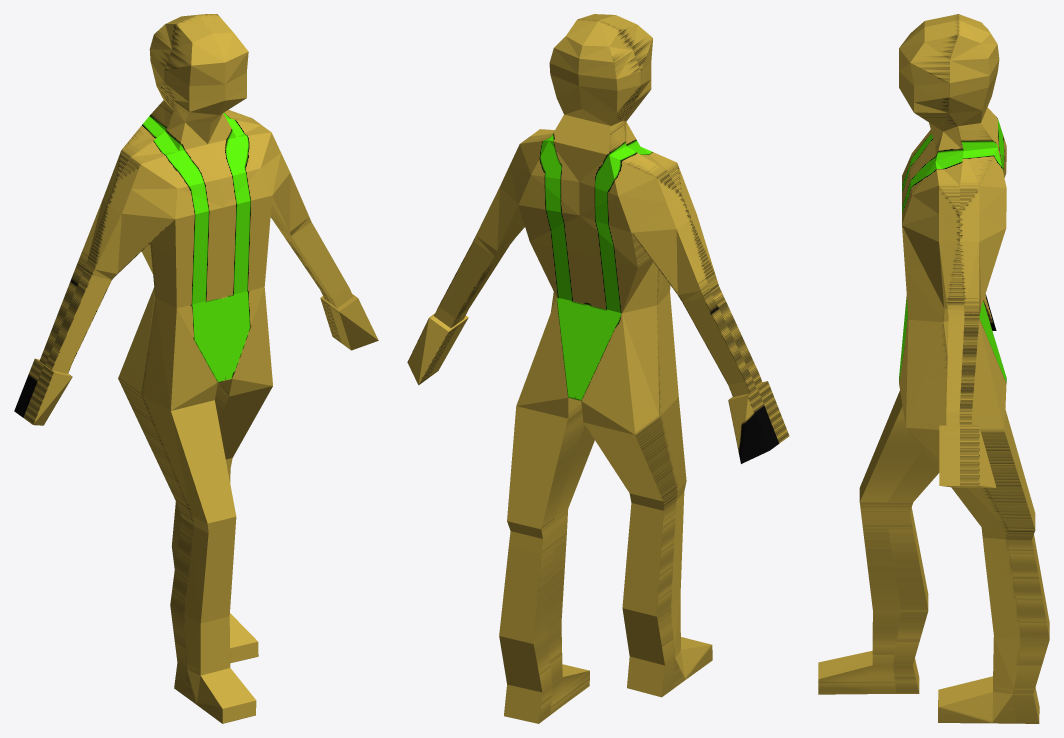
3 views of the same model, side by side, from view 1: azimuth 30°, elevation 25°; view 2: azimuth 150°, elevation 25°; view 3: azimuth 270°, elevation 25° (orthographic). The views are drawn at different scales.
Visible parts, largest first — view 1: Borat; view 2: Borat; view 3: Borat.
Boxes of the visible parts, <box> form: Borat: <box>14,14,378,723</box>; Borat: <box>407,14,789,723</box>; Borat: <box>818,14,1049,723</box>.
Bounding box in the file's own units: 1.79 × 3.21 × 0.9924.
